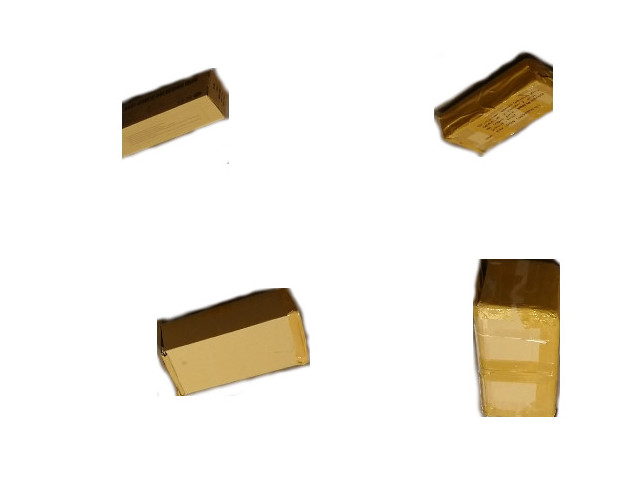cardboard: (157, 288, 310, 396), (474, 258, 560, 414), (441, 59, 553, 155), (121, 70, 227, 157)
